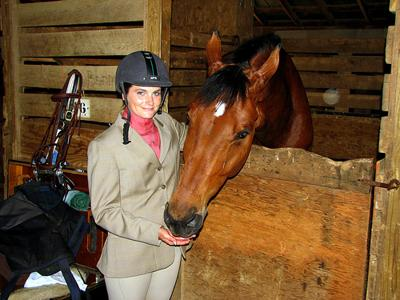person: (86, 50, 188, 299)
